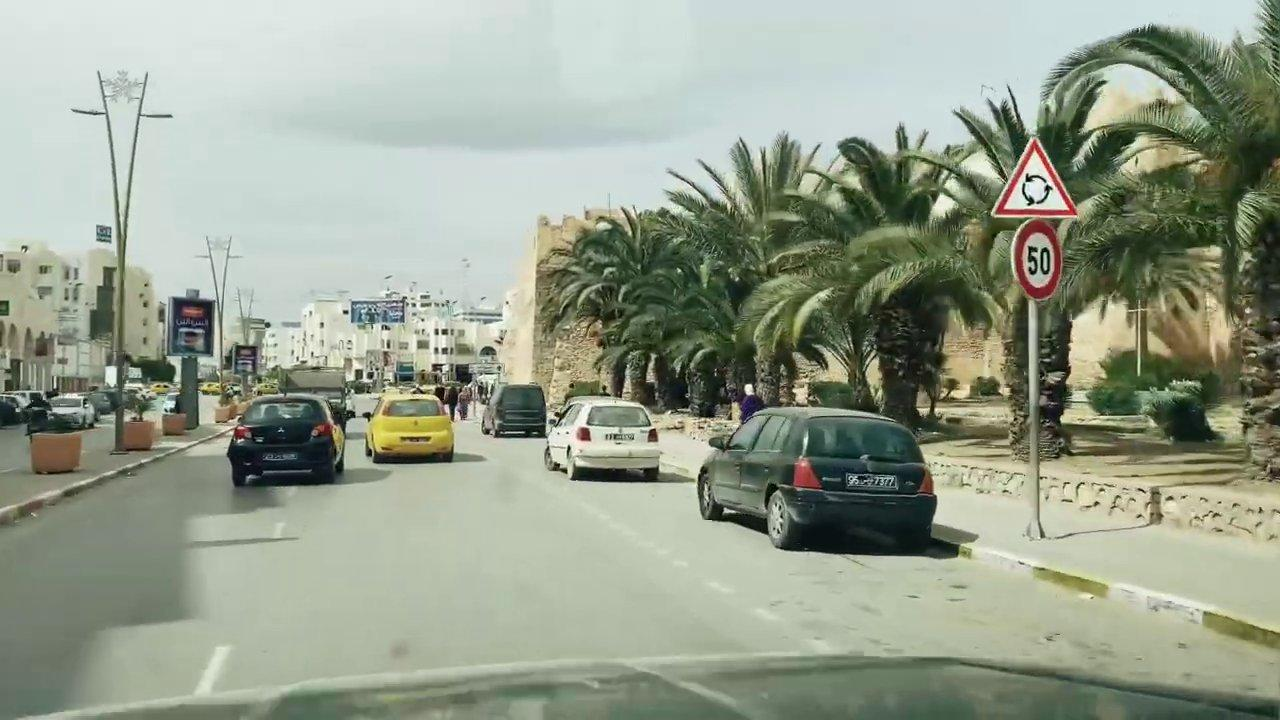roundabout: (987, 134, 1080, 228)
speed limit 50: (1011, 218, 1064, 305)
